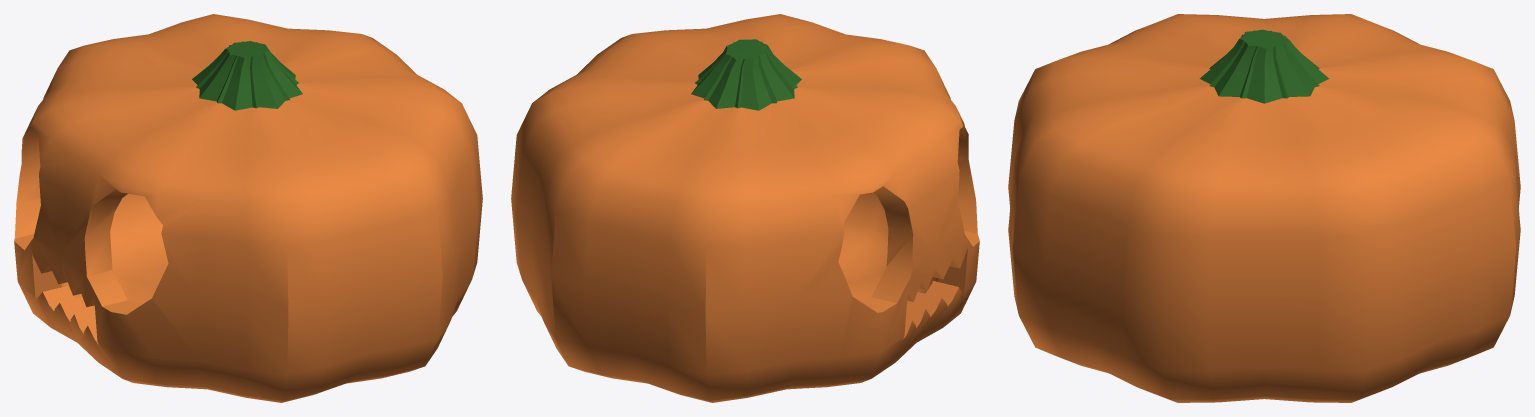
File: jackolantern1.fbx
3 renders of one model, left to right at view 1: azimuth 30°, elevation 25°; view 2: azimuth 150°, elevation 25°; view 3: azimuth 270°, elevation 25°, orthographic. The views are drawn at different scales.
Visible parts, largest first — view 1: Cylinder.002; view 2: Cylinder.002; view 3: Cylinder.002.
Boxes of the visible parts, bbox=[...] form: Cylinder.002: bbox=[14, 14, 482, 402]; Cylinder.002: bbox=[511, 14, 979, 402]; Cylinder.002: bbox=[1008, 14, 1520, 402].
Bounding box in the file's own units: 169 × 118 × 186.
